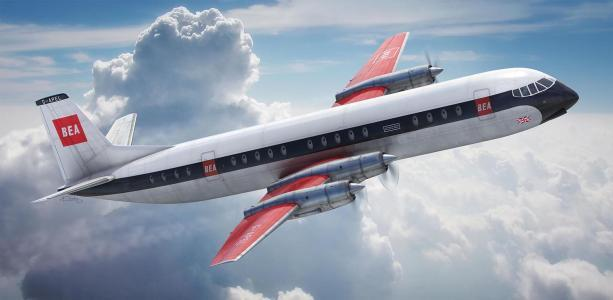airplane: (22, 31, 582, 267)
